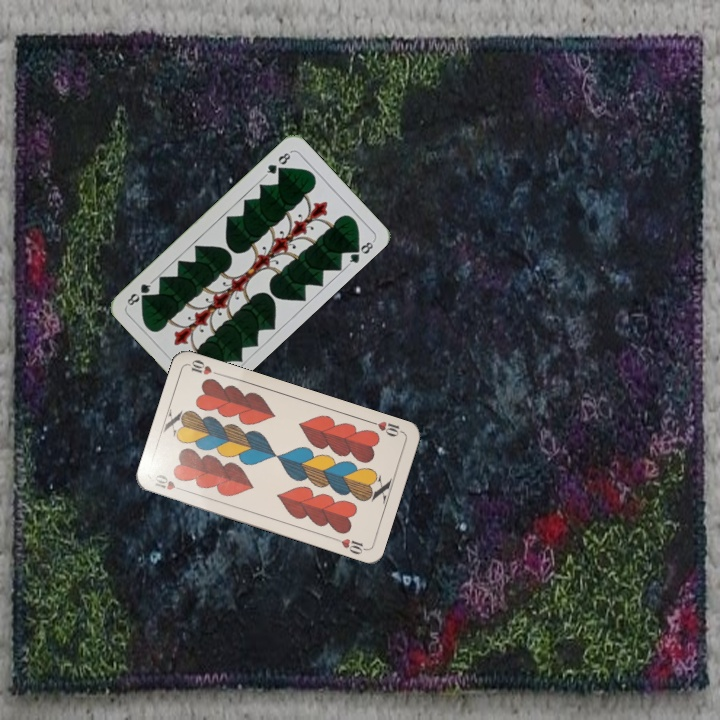G8: (261, 148, 294, 179)
H10: (149, 471, 188, 495), (366, 417, 405, 439)
